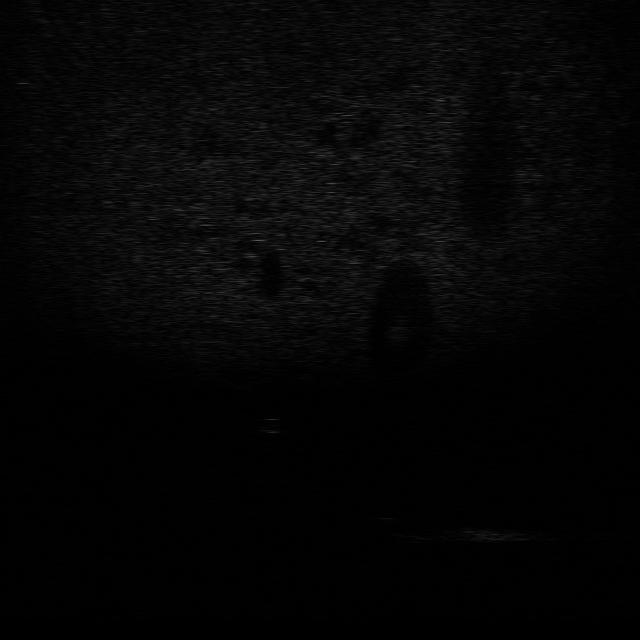ball: (250, 412, 288, 436)
metal bucket: (439, 524, 530, 546)
tyre: (372, 512, 438, 544)
